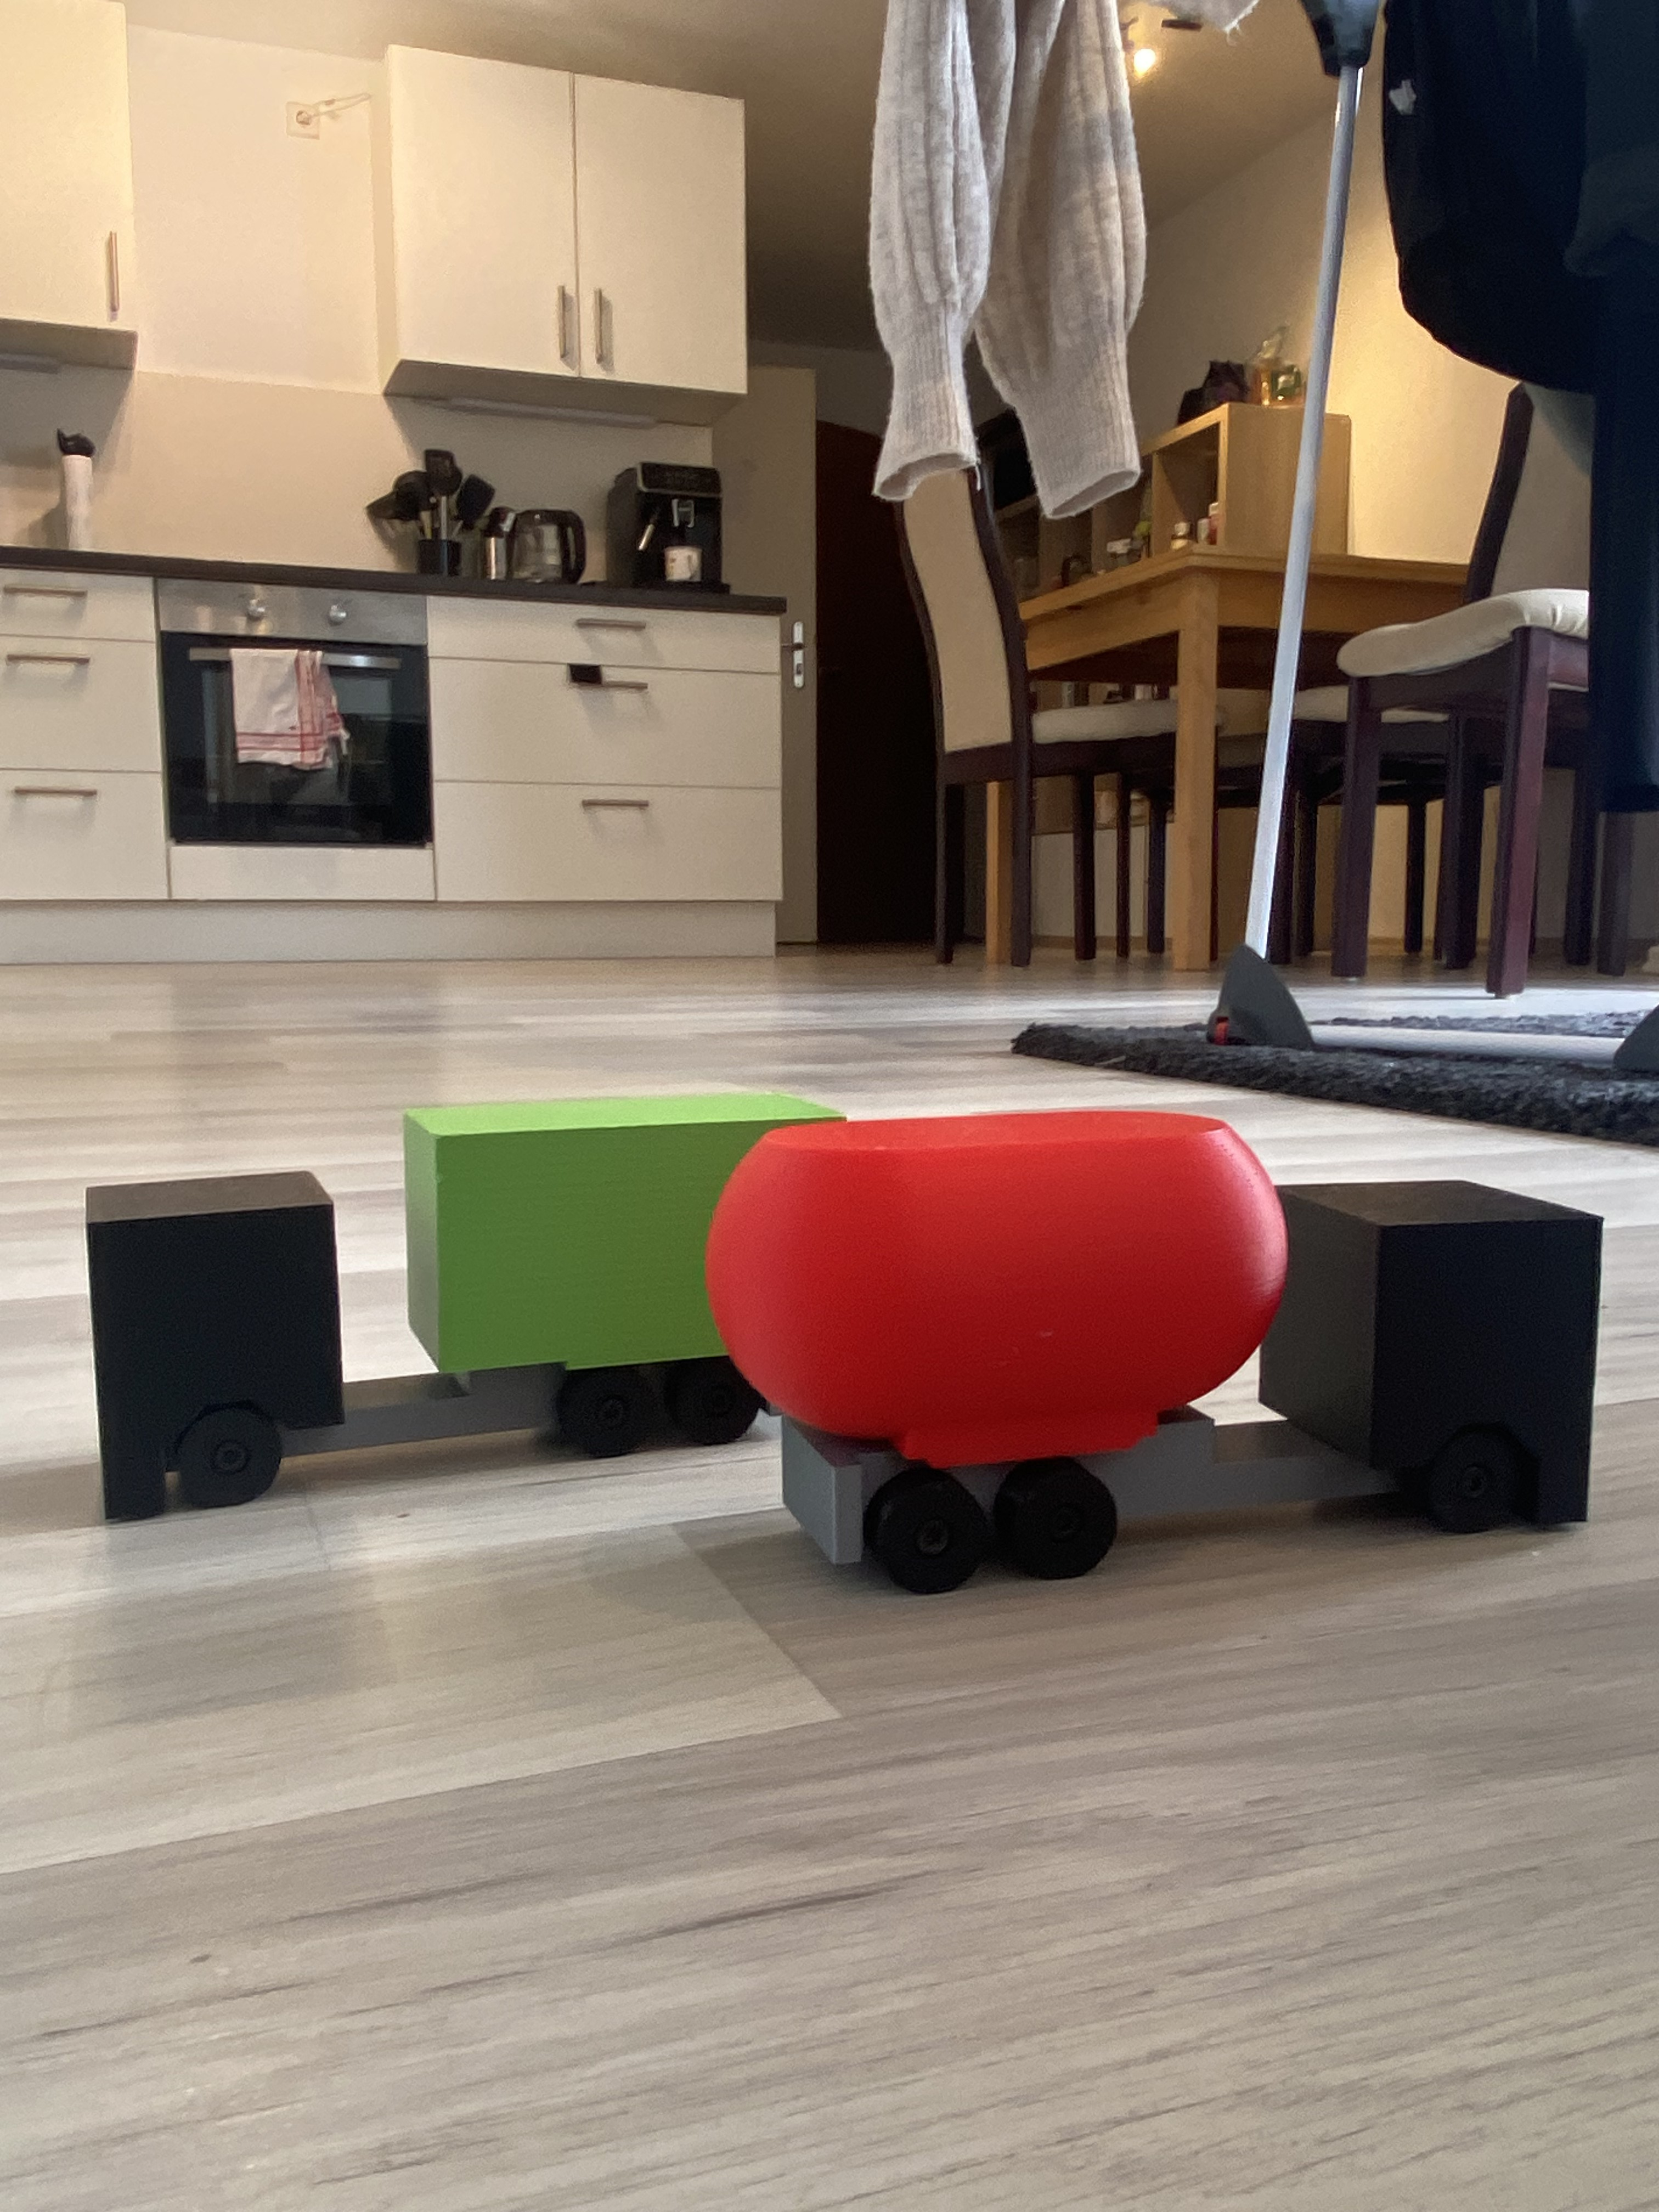green_truck: (260, 928, 674, 1705)
red_truck: (924, 874, 1373, 1808)
